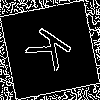K: (25, 25, 81, 78)
